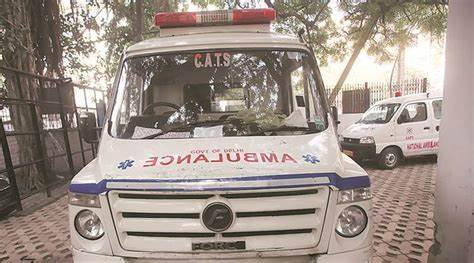ambulance: (72, 11, 377, 262)
